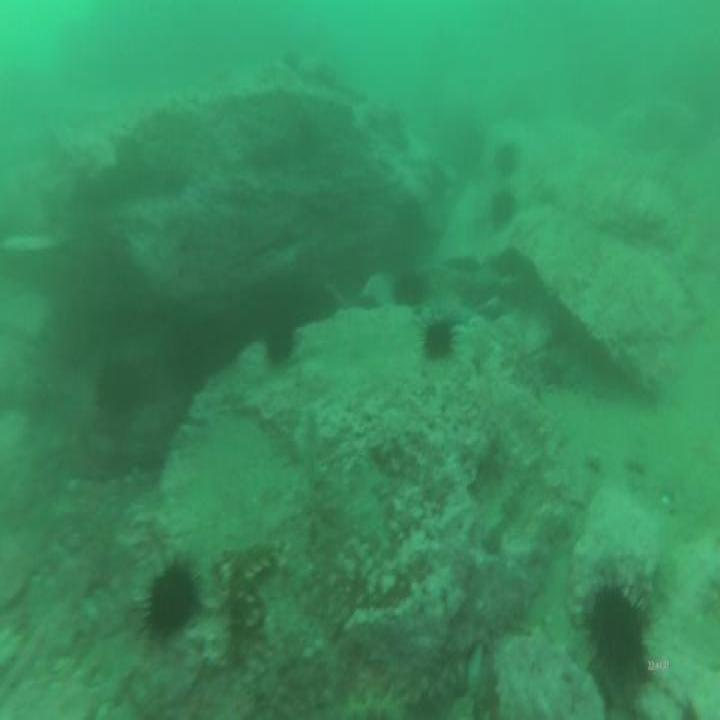echinus: (578, 567, 650, 708), (143, 549, 198, 647), (91, 354, 147, 423), (264, 300, 298, 370), (421, 311, 458, 365), (391, 263, 430, 313), (489, 185, 517, 235), (495, 137, 524, 183)
holothurian: (219, 535, 286, 637)
